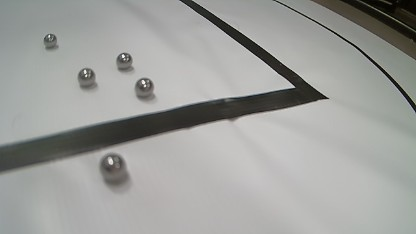ironball: (100, 153, 127, 183), (135, 78, 154, 97), (77, 68, 95, 86), (116, 52, 132, 69), (43, 33, 57, 48)
